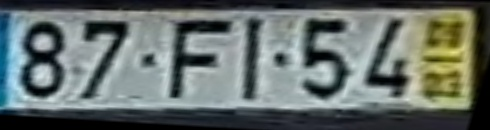4: (361, 17, 415, 100)
5: (297, 18, 352, 103)
7: (78, 19, 133, 103)
8: (18, 19, 69, 100)
F: (165, 19, 237, 102)
I: (238, 17, 266, 104)
